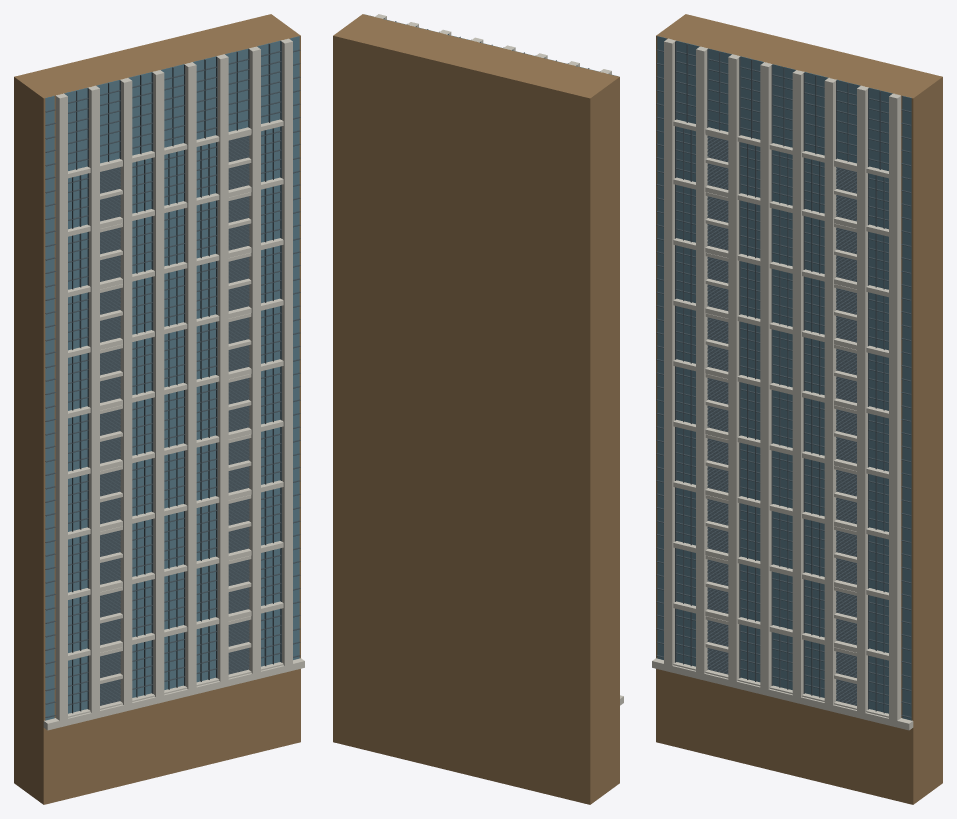
File: light.glb
3 views of the same model, side by side, from view 1: azimuth 30°, elevation 25°; view 2: azimuth 150°, elevation 25°; view 3: azimuth 330°, elevation 25° (orthographic).
Visible parts, largest first — view 1: F_spandrel_0_0, F_glass_0_0, HOLD_closed_support_mass, F_transom_0_0_1; view 2: HOLD_closed_support_mass; view 3: F_spandrel_0_0, F_glass_0_0, HOLD_closed_support_mass, F_transom_0_0_1.
Boxes of the visible parts, box(x1,y1,x2,y2) form: F_spandrel_0_0: box(43, 38, 304, 730); F_glass_0_0: box(45, 36, 299, 720); HOLD_closed_support_mass: box(14, 14, 300, 804); F_transom_0_0_1: box(45, 41, 300, 717); HOLD_closed_support_mass: box(333, 14, 619, 804); F_spandrel_0_0: box(652, 38, 913, 730); F_glass_0_0: box(657, 36, 911, 720); HOLD_closed_support_mass: box(656, 14, 942, 804); F_transom_0_0_1: box(656, 41, 911, 717).
Size of the model in its own units: 40 by 105 by 9.07.
